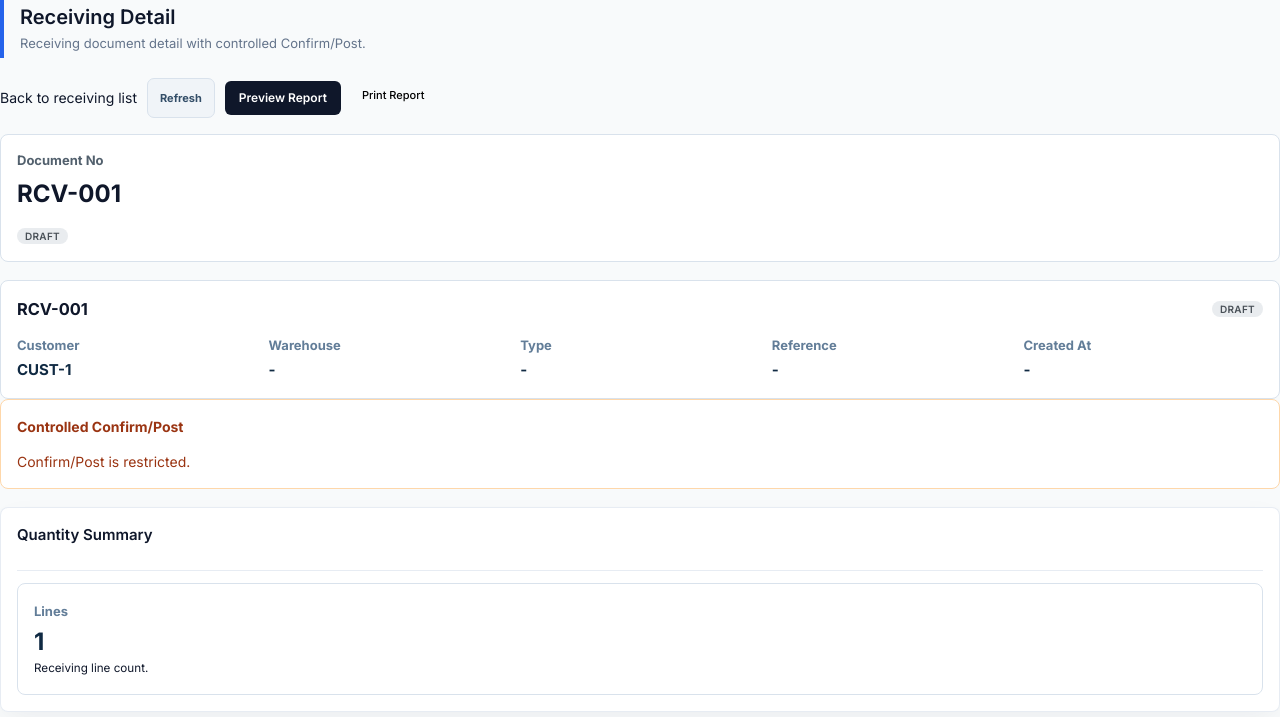
Test: 20B operational report preview UI integration › opens receiving report preview modal from receiving detail page
This screenshot has width=1280, height=717.
What coordinates should you click on to do the following:
click the button with test id "operational-report-preview-action"
I would click on:
 (283, 98)
Its box is [225,80,341,114].
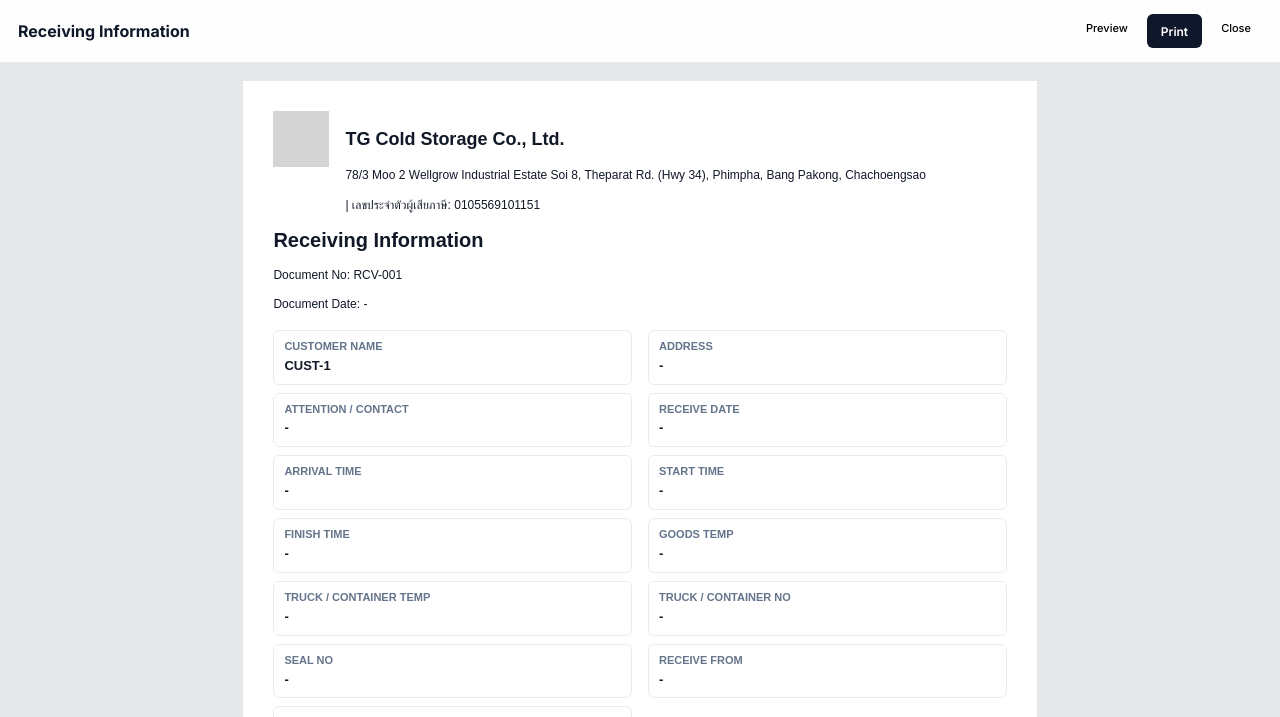
Result: the button with test id "report-print-button" is shown at [1147,14,1202,48]
